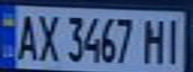3: (63, 11, 84, 63)
4: (81, 12, 103, 63)
6: (100, 15, 121, 64)
7: (115, 15, 139, 64)
A: (12, 10, 42, 62)
H: (139, 15, 172, 65)
I: (160, 15, 187, 64)
X: (33, 10, 60, 63)
